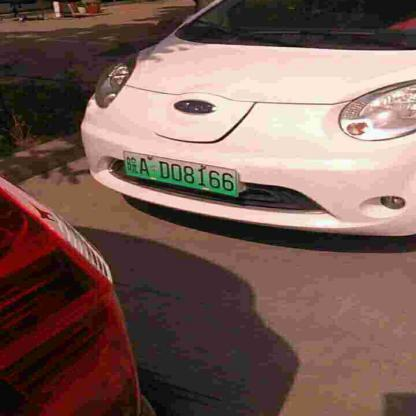lp: (122, 150, 237, 197)
